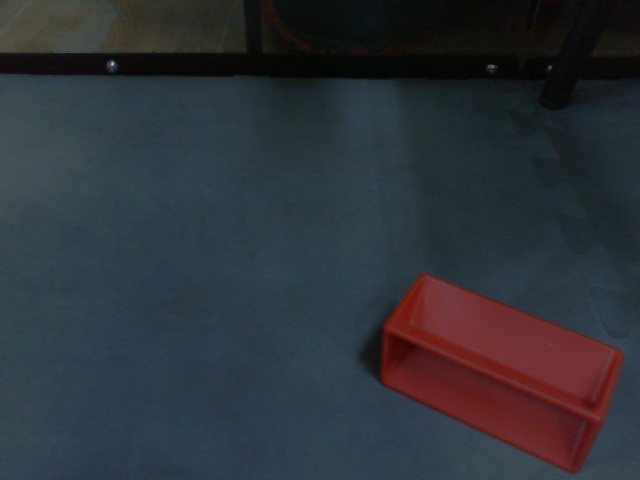RedSample: (376, 271, 627, 475)
